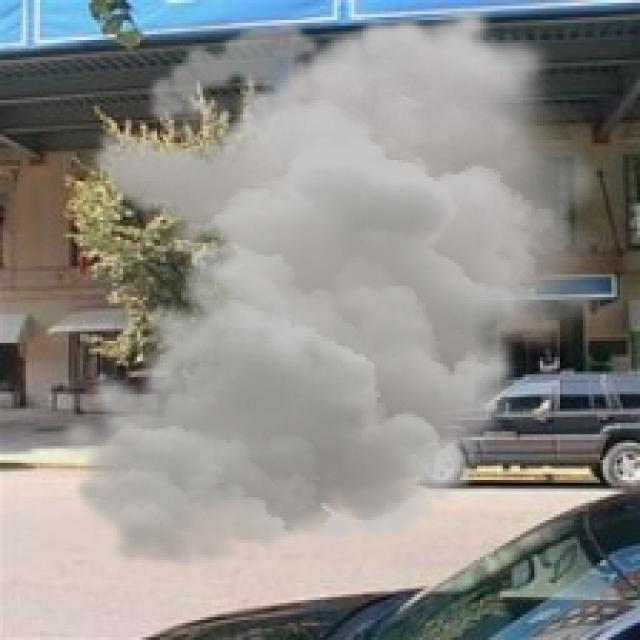Smoke: (54, 2, 623, 572)
